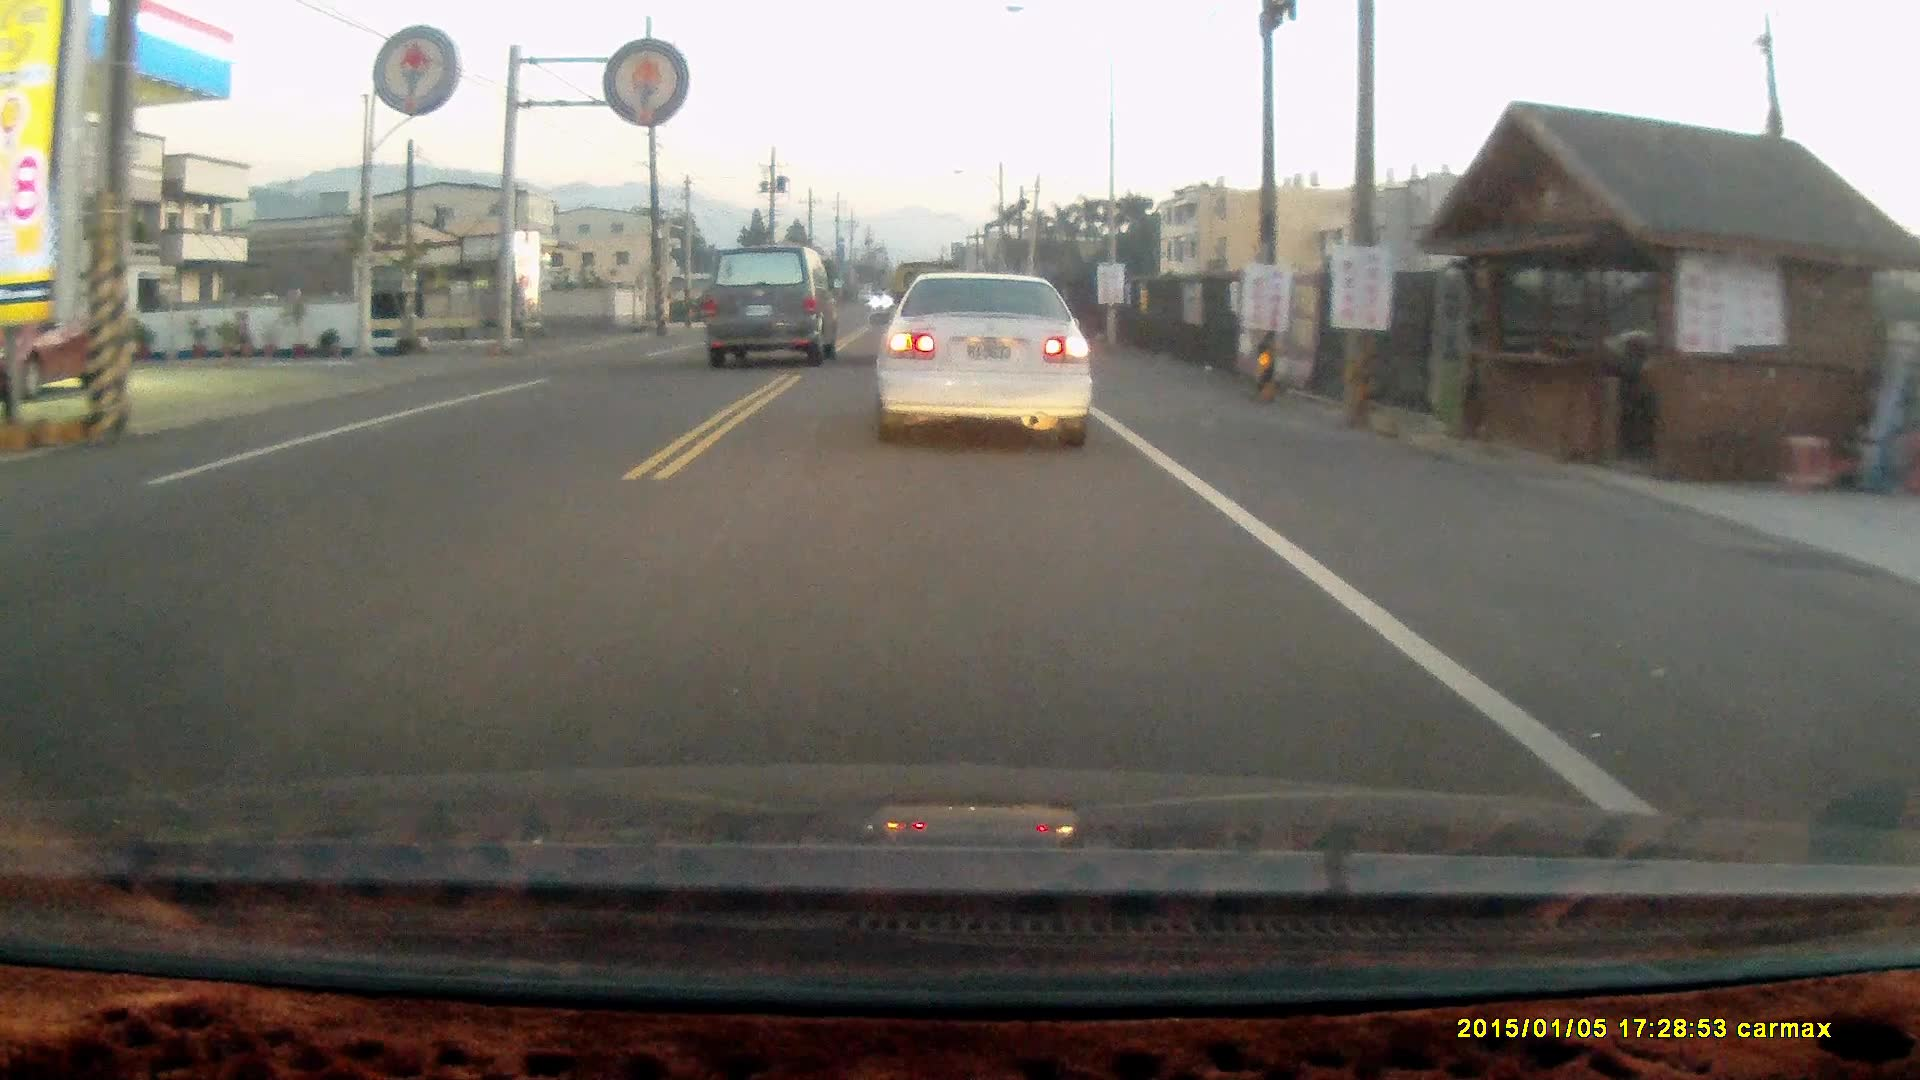pedestrian: (1619, 328, 1667, 433)
vehicle: (870, 269, 1096, 457), (699, 245, 841, 373), (2, 295, 114, 397)
